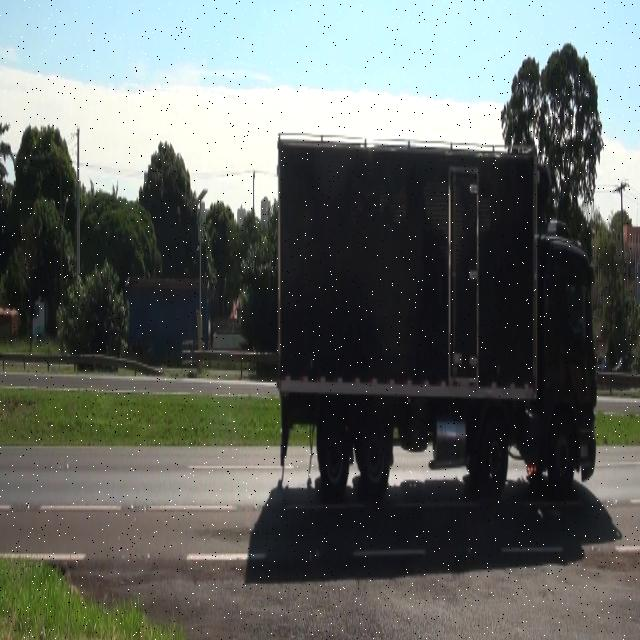-axle: (318, 409, 352, 497), (359, 408, 390, 496), (480, 413, 511, 493), (548, 420, 579, 489)
